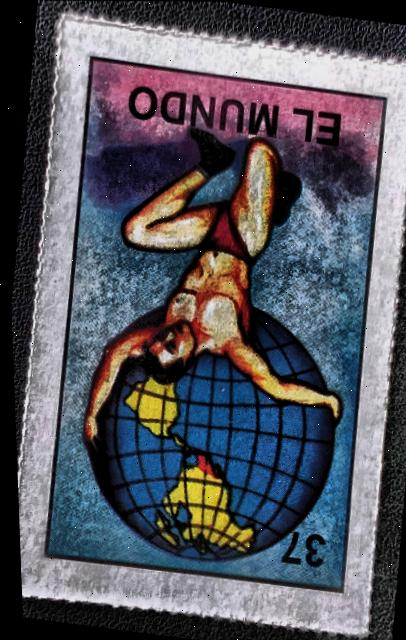El Mundo: (1, 33, 406, 625)
